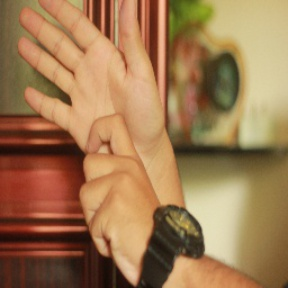R: (16, 1, 161, 239)
